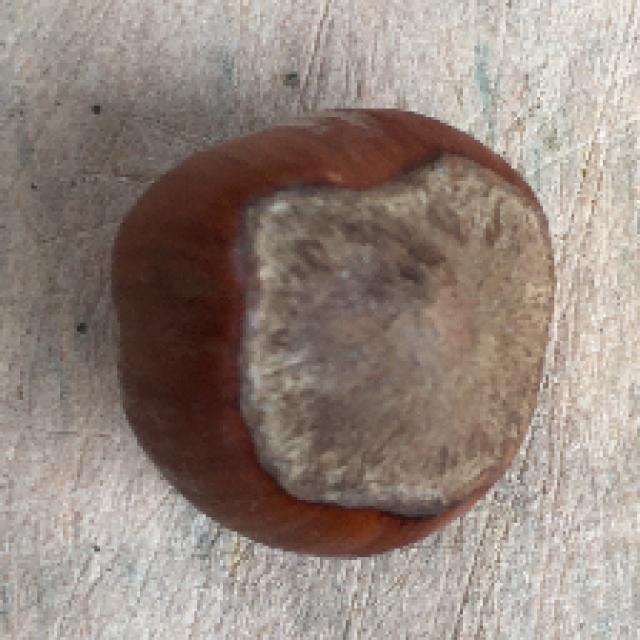qualityHazelnut: (108, 103, 556, 560)
